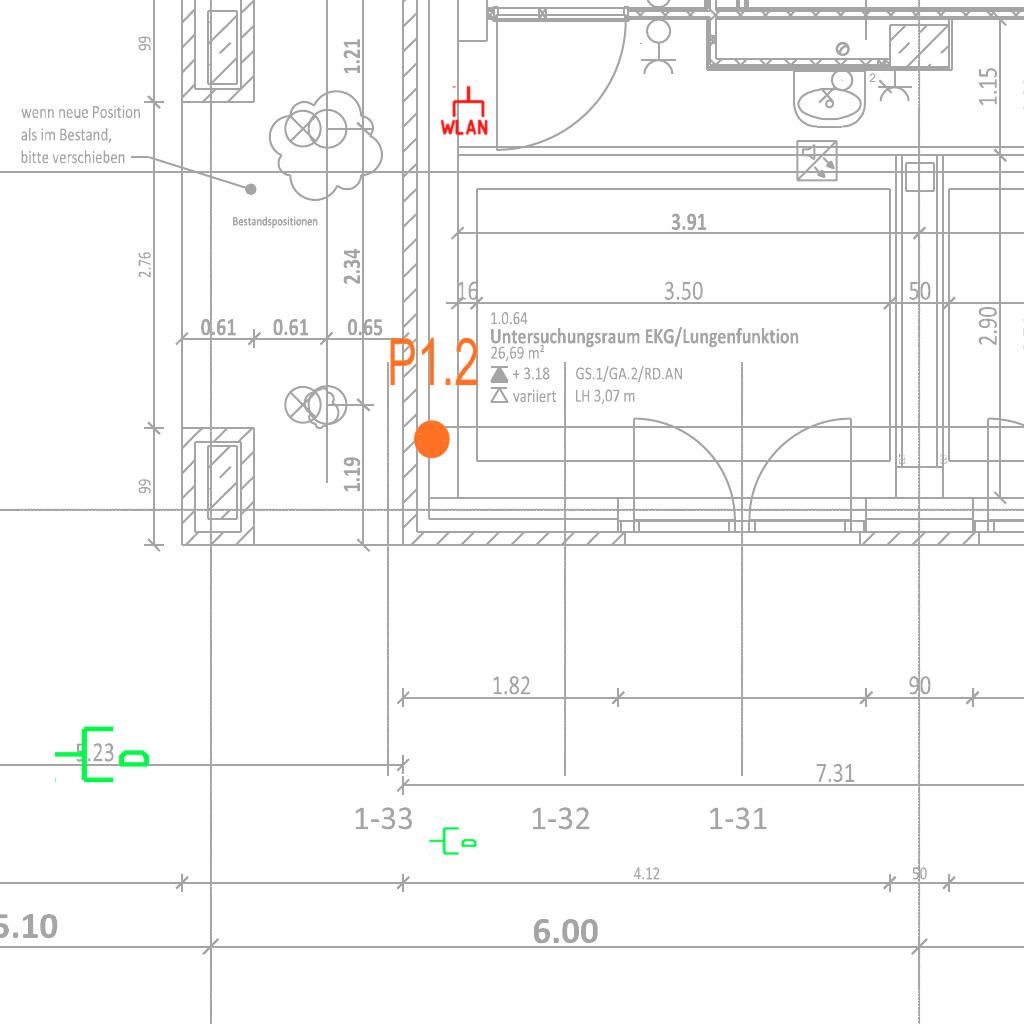Datenanschluss_einfach: (52, 718, 152, 787), (428, 823, 478, 857)
Downlight_LED_Einbauleuchten_Flur: (387, 334, 480, 462)
WLAN: (438, 84, 490, 136)
